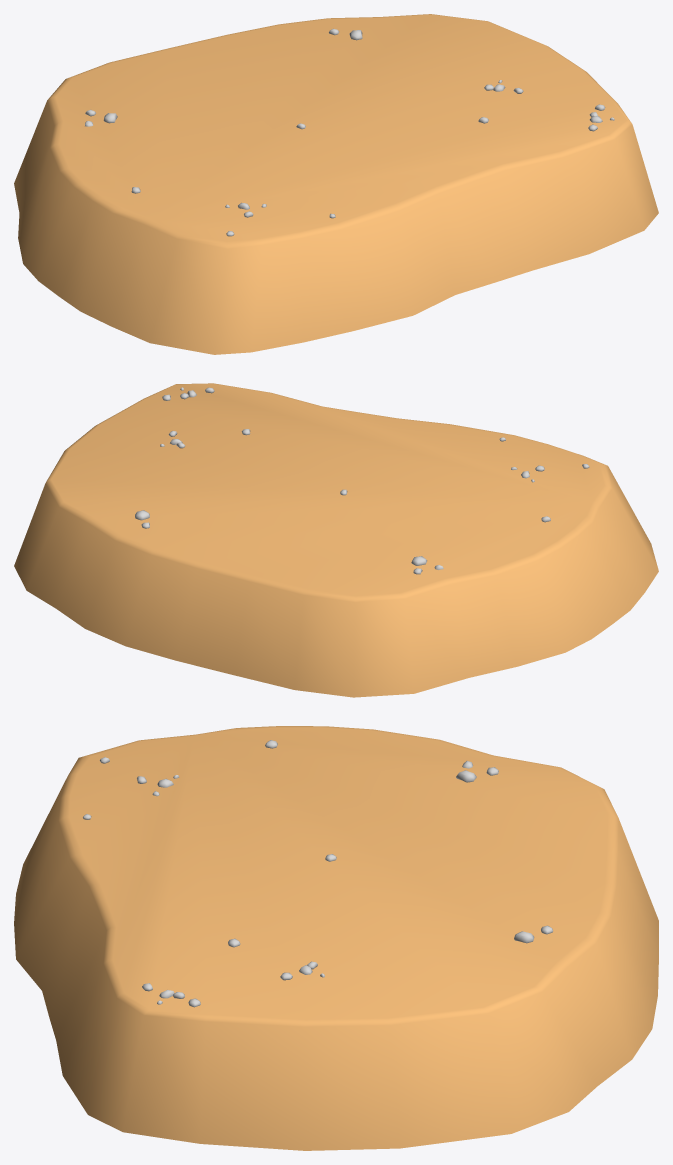
Rendered from Island_03.fbx.
The picture shows the model from 3 angles, top to bottom: view 1: azimuth 30°, elevation 25°; view 2: azimuth 150°, elevation 25°; view 3: azimuth 270°, elevation 25°; orthographic projection. The views are drawn at different scales.
Parts seen in each view (by area): view 1: Island_03; view 2: Island_03; view 3: Island_03.
Boxes of the visible parts, x1,y1,x2,y2 form: Island_03: [14, 14, 658, 354]; Island_03: [14, 383, 658, 697]; Island_03: [14, 726, 658, 1150].
Bounding box in the file's own units: 27.1 × 4.41 × 21.83.
